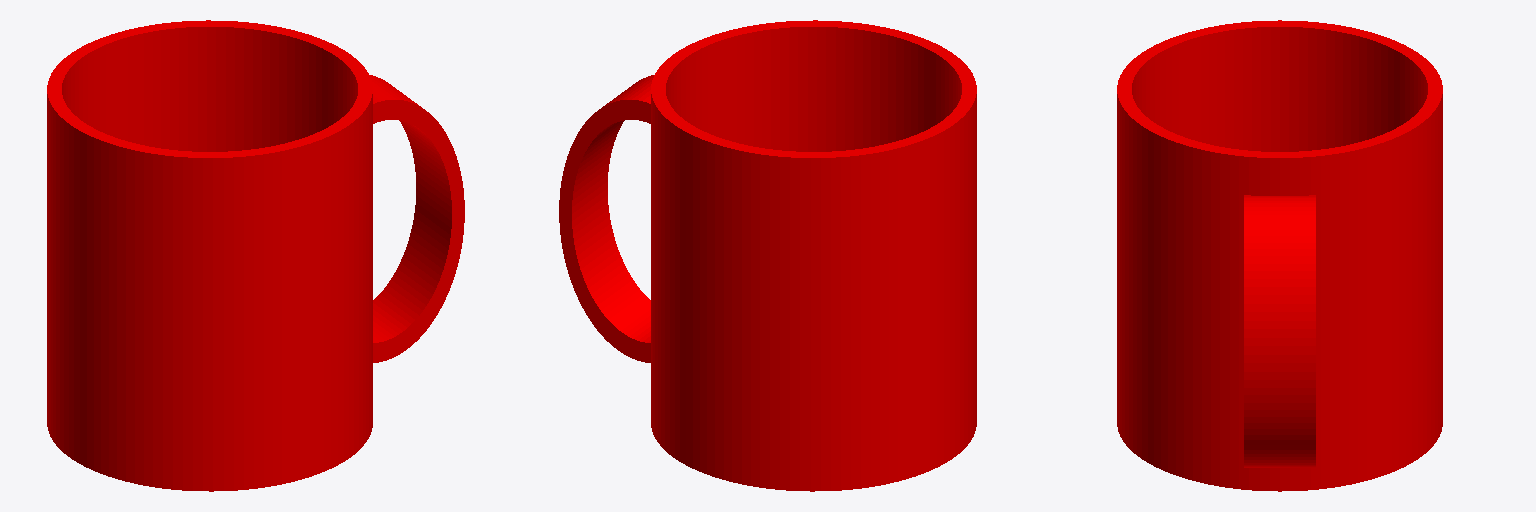
URDF robot description (mug.urdf):
<?xml version="1.0" ?>
<robot name="mug.urdf">
  <link name="baseLink">
    <inertial>
      <origin rpy="0 0 0" xyz="0 0 0"/>
       <mass value=".1"/>
       <inertia ixx="1" ixy="0" ixz="0" iyy="1" iyz="0" izz="1"/>
    </inertial>
    <contact>
      <lateral_friction value="1.0"/>
      <inertia_scaling value="3.0"/>
    </contact>
    <visual>
      <origin rpy="0 0 0" xyz="0 0 0"/>
      <geometry>
        <mesh filename="3.stl" scale="1 1 1" />
      </geometry>
      <material name="red">
        <color rgba="1 0 0 1"/>
      </material>
    </visual>
    <collision>
      <origin rpy="0 0 0" xyz="0 0 0"/>
      <geometry>
        <mesh filename="3_convex.obj" scale="1 1 1" />
      </geometry>
    </collision>
  </link>
</robot>

--- What the picture shows (computed from the rendered views, not written in the file) ---
The picture shows the robot from 3 angles, left to right: view 1: azimuth 30°, elevation 25°; view 2: azimuth 150°, elevation 25°; view 3: azimuth 270°, elevation 25°; orthographic projection.
Model mug.urdf with 1 links and 0 joints (none), rooted at baseLink, posed all joints at 0.
Visible links, largest first — view 1: baseLink; view 2: baseLink; view 3: baseLink.
Boxes of the visible links, x1,y1,x2,y2 form: baseLink: [47, 20, 464, 491]; baseLink: [559, 20, 976, 491]; baseLink: [1117, 20, 1442, 491].
Bounding box of the posed robot: 0.1487 × 0.111 × 0.1253 m (x, y, z).
1 mesh visuals loaded from 1 distinct referenced files (1 binary STL).